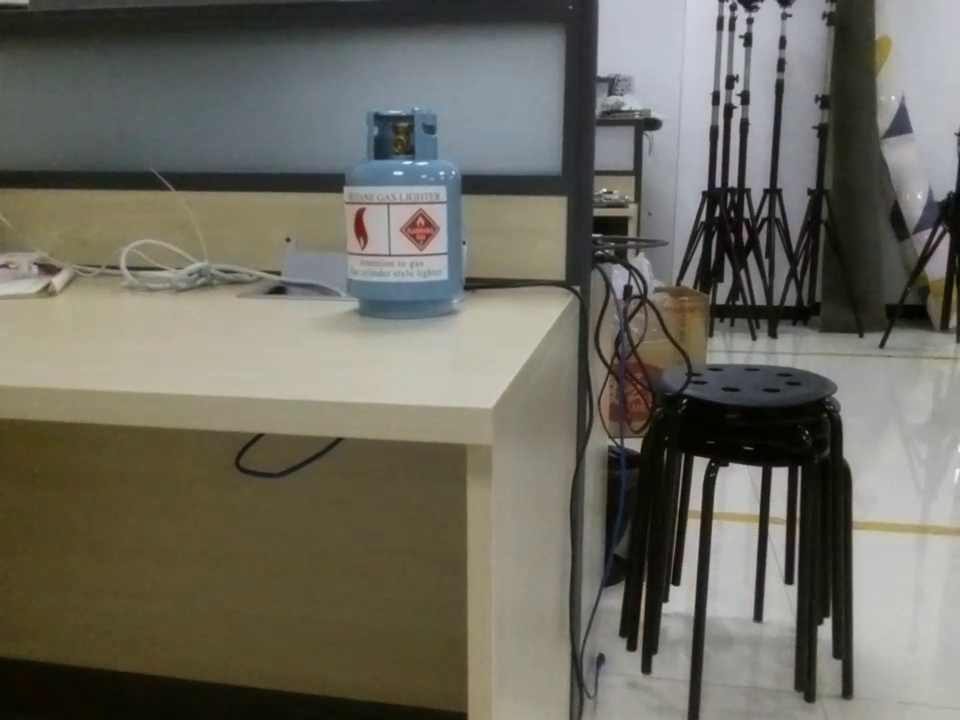gas tank: (332, 105, 476, 322)
